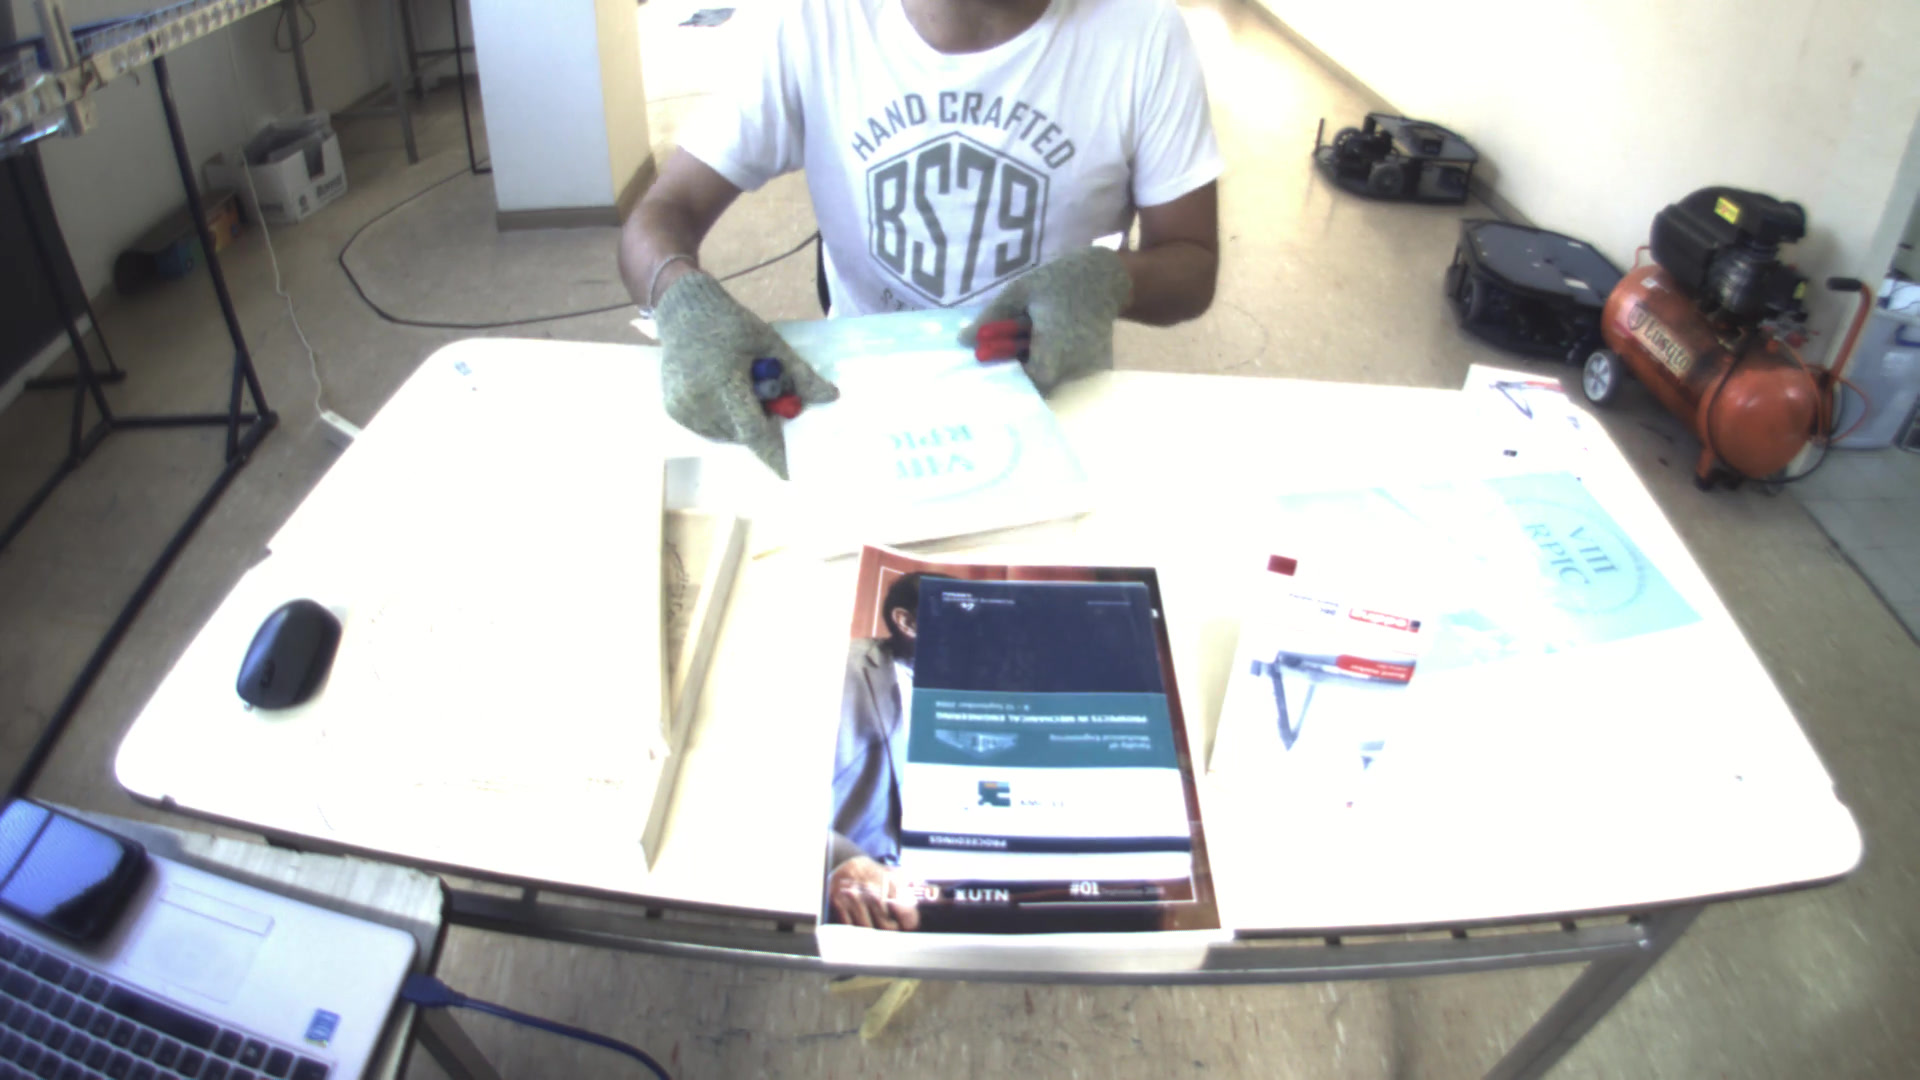hand: (628, 266, 843, 469), (963, 241, 1141, 376)
